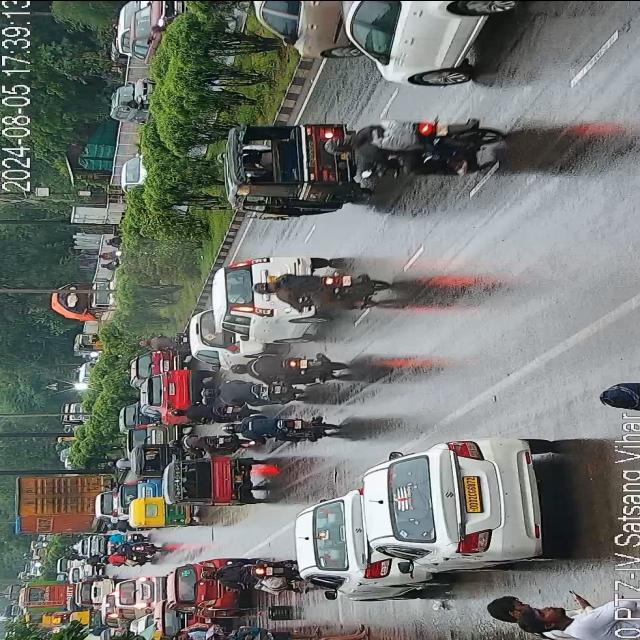2-wheelers: (347, 108, 505, 178), (258, 266, 393, 316), (232, 409, 341, 446), (244, 350, 350, 388), (198, 560, 290, 588), (176, 396, 241, 424), (176, 430, 246, 452), (106, 540, 160, 560), (104, 550, 144, 568), (138, 334, 188, 348), (104, 533, 140, 545), (105, 458, 131, 470), (75, 574, 107, 582)
auto: (220, 120, 351, 220), (166, 453, 260, 505), (133, 496, 199, 528), (128, 444, 174, 476)
bus: (22, 578, 76, 626)
car: (368, 438, 550, 572), (335, 0, 515, 93), (294, 497, 406, 593), (215, 258, 325, 344), (238, 0, 346, 57), (112, 0, 180, 69), (167, 557, 234, 620), (186, 324, 250, 374), (138, 368, 192, 420), (115, 576, 158, 616), (128, 351, 184, 376), (72, 576, 115, 604), (125, 424, 183, 442), (99, 482, 130, 514), (116, 478, 160, 500), (117, 406, 137, 426), (68, 563, 96, 577)
pedestrian: (484, 593, 604, 640), (592, 366, 640, 410), (284, 622, 370, 640), (207, 629, 312, 640), (175, 630, 219, 640)
truck: (14, 468, 110, 538), (44, 280, 112, 318)
